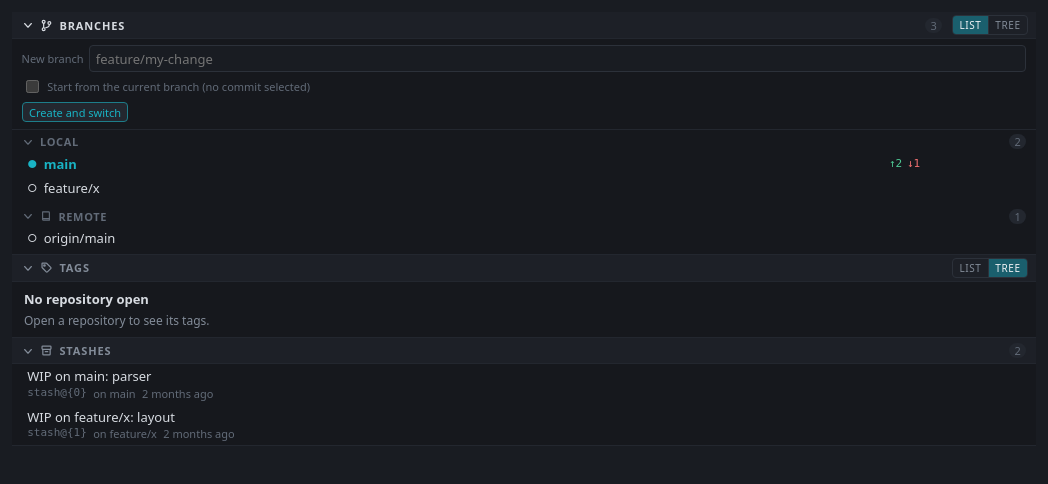
Scenario: creating a branch › rejects  in the field
This screenshot has width=1048, height=484.
Click the button "Create and switch": (75, 112) [22, 102, 128, 122]
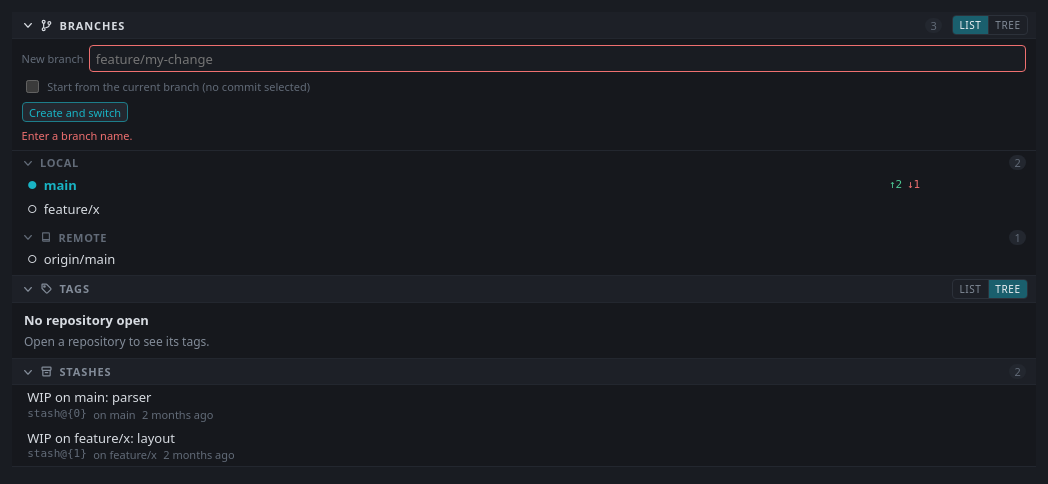
expect the message reads "Enter a branch name.": met, box [22, 128, 132, 143]
